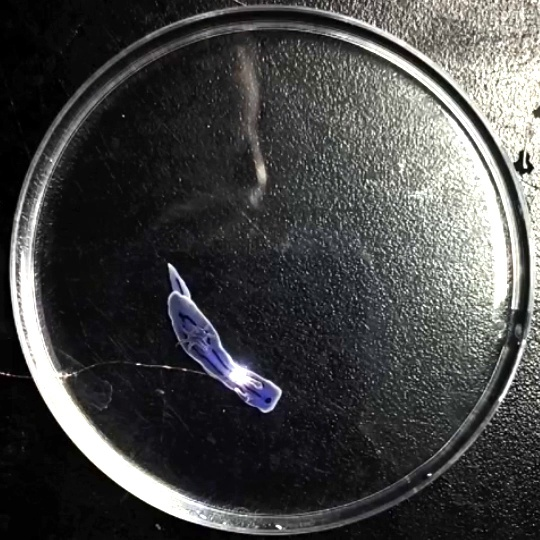sea-slug: (87, 86, 266, 399)
